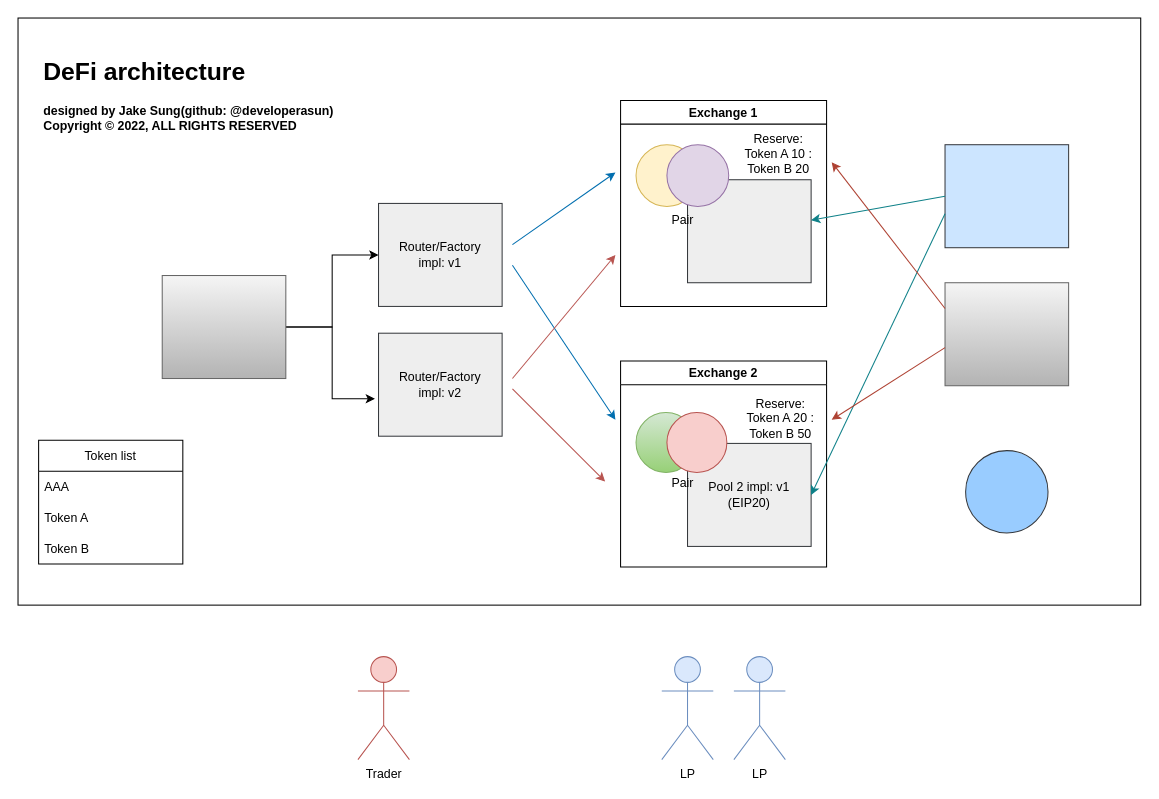
Image size: 1159x799. Some labels were removed from this diagram. Each missing label, with the centre of its shape:
"AAA (EIP20, Governance)" belongs at point (1006, 491).
"Exchange proxy" belongs at point (1006, 334).
"Pool 1 impl: v1 (EIP20)" belongs at point (748, 231).
"Pool interface" belongs at point (1006, 196).
"Router/Factory proxy" belongs at point (223, 326).
